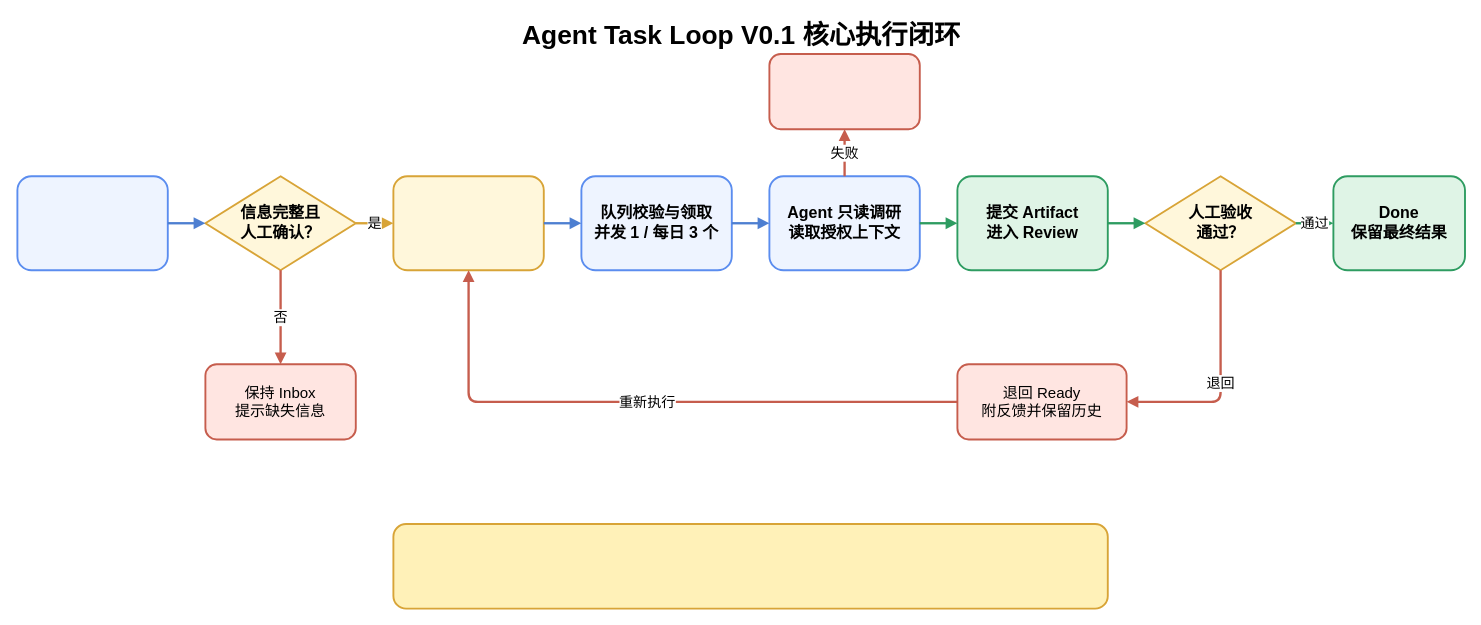
This 1481x625 diagram has some shape labels left out. Here are the shapes that lost their labels. From the top down, the box of each, then its label:
(768, 53, 920, 130): 连续两次失败 进入 Blocked
(16, 175, 168, 271): 收集进入 Inbox 保留来源
(392, 175, 544, 271): 进入 Ready 允许自动执行
(392, 523, 1108, 609): 全程约束：来源可追溯 / 权限最小化 / 状态可观察 / 运行可审计 / Agent 不得自行确认 Ready 或 Done
